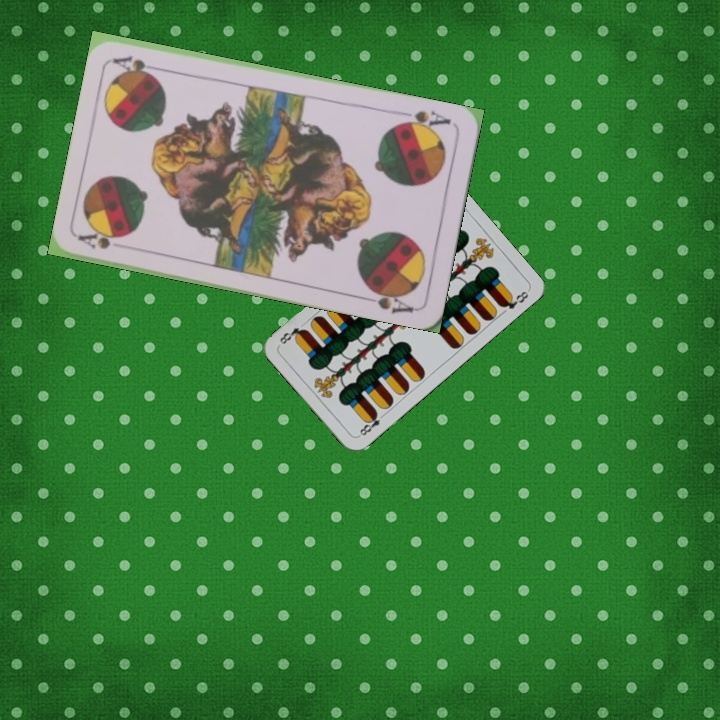E8: (354, 408, 388, 439)
SA: (394, 107, 454, 135), (75, 227, 127, 252)
